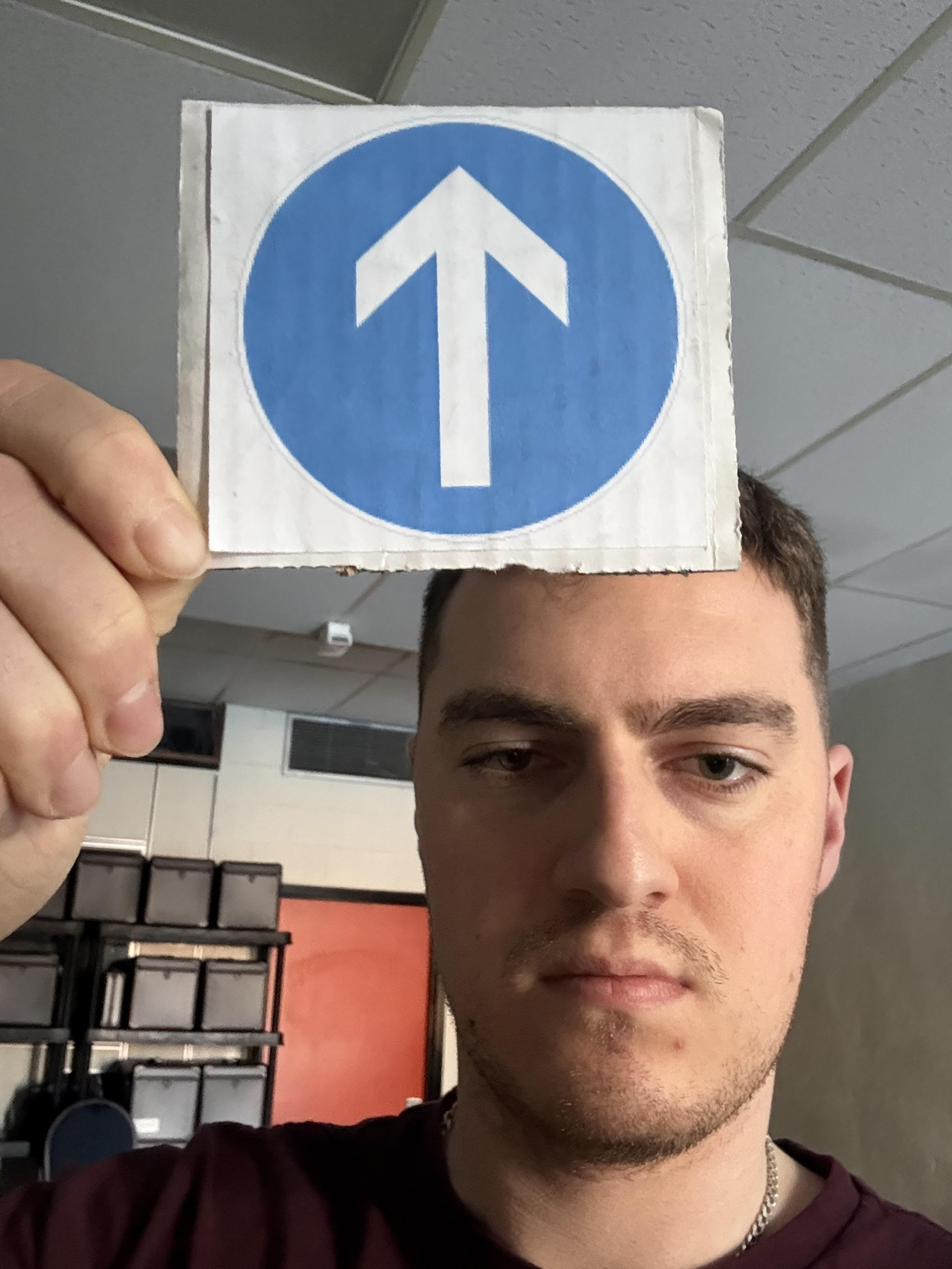Proceed Forward: (133, 134, 552, 760)
